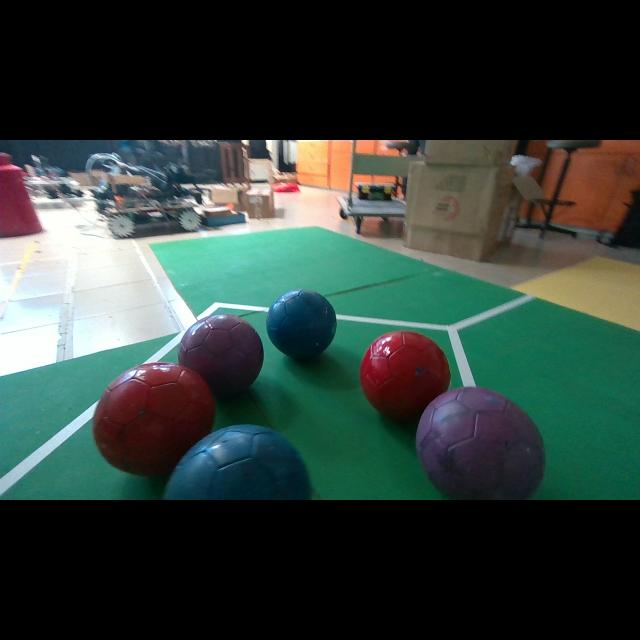B: (164, 425, 311, 500), (266, 289, 336, 359)
P: (416, 386, 545, 499), (178, 314, 264, 396)
R: (94, 362, 215, 476), (360, 330, 451, 421)
